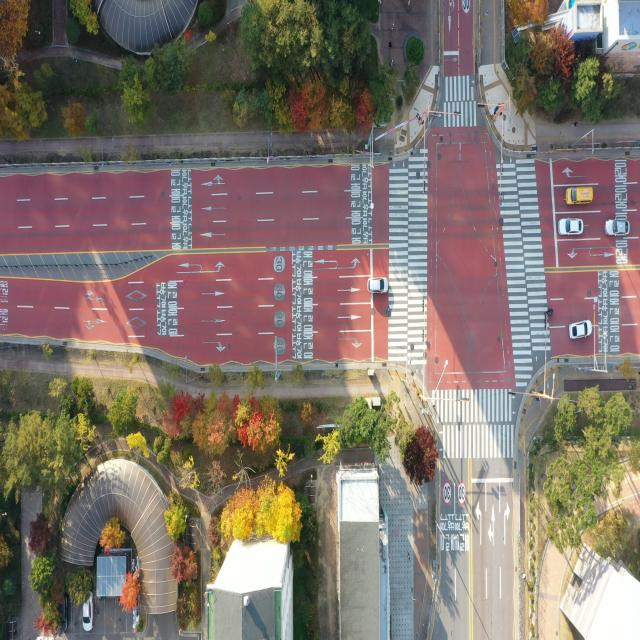car: (558, 217, 582, 235), (571, 320, 592, 340), (566, 188, 592, 204), (608, 218, 630, 235), (369, 277, 390, 293), (82, 602, 92, 634)
